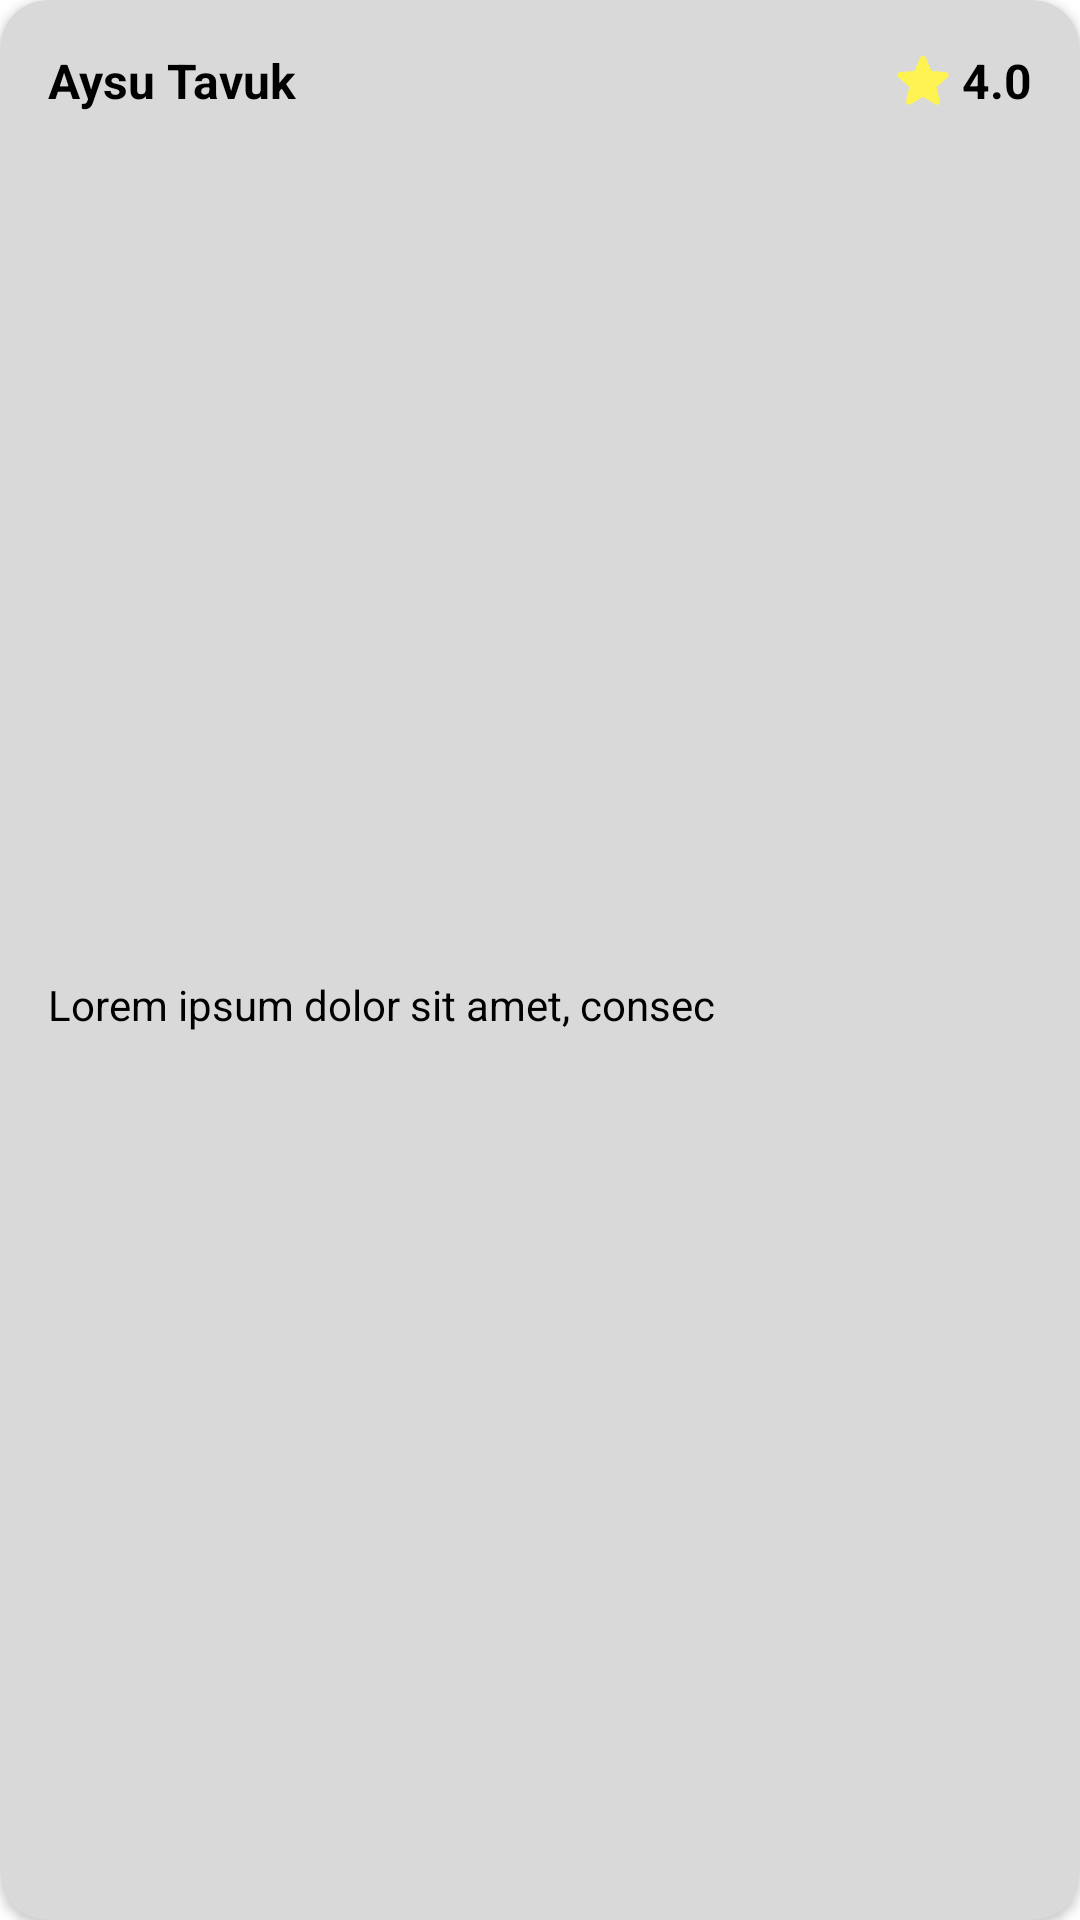

Named icons in this screenshot (1080×1920) and their bounding boxes, (x1, y1, x2, y2):
star: (897, 55, 949, 105)
